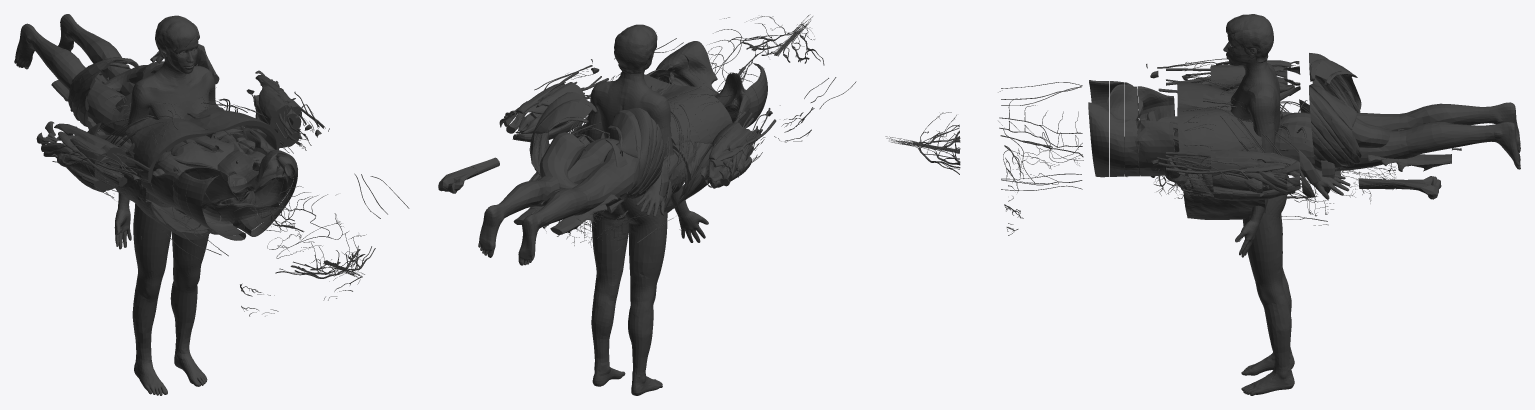
The model's file is sharedassets105.glb.
3 views of the same model, side by side, from view 1: azimuth 30°, elevation 25°; view 2: azimuth 150°, elevation 25°; view 3: azimuth 270°, elevation 25° (orthographic). The views are drawn at different scales.
Visible parts, largest first — view 1: 0007_Skin, female, 0008_Skin, male, 0177_Peritoneum__300016-01, 0258_Peritoneum__300016-02, 0643_Peritoneum__300016-04, 0475_Latissimus dorsi, R__1000235-01, 0266_Peritoneum__300016-03, 0471_Latissimus dorsi, L__1000234-01, 0925_Latissimus dorsi, R__1000235-04, 0523_Triceps _triceps brachii_, long head, L_, 0380_External oblique, R__1000152-01, 0604_Latissimus dorsi, R__1000235-02 (+1 smaller); view 2: 0007_Skin, female, 0008_Skin, male, 0258_Peritoneum__300016-02, 0177_Peritoneum__300016-01, 0475_Latissimus dorsi, R__1000235-01, 0872_External oblique, R__1000152-04, 0266_Peritoneum__300016-03, 0439_External intercostal, R__1000150-01, 0604_Latissimus dorsi, R__1000235-02, 0925_Latissimus dorsi, R__1000235-04, 0404_External intercostal, L__1000149-01, 0552_Latissimus dorsi, R__1000235-03 (+8 smaller); view 3: 0007_Skin, female, 0008_Skin, male, 0643_Peritoneum__300016-04, 0177_Peritoneum__300016-01, 0258_Peritoneum__300016-02, 0266_Peritoneum__300016-03, 0471_Latissimus dorsi, L__1000234-01, 0922_Latissimus dorsi, L__1000234-04, 0600_Latissimus dorsi, L__1000234-02, 0510_External oblique, L__1000151-02, 0858_External oblique, L__1000151-04, 0368_External oblique, L__1000151-01 (+3 smaller).
Boxes of the visible parts, x1,y1,x2,y2 form: 0007_Skin, female: (114,15,215,395); 0008_Skin, male: (14,14,256,208); 0177_Peritoneum__300016-01: (186,150,297,240); 0258_Peritoneum__300016-02: (177,150,294,235); 0643_Peritoneum__300016-04: (151,129,274,223); 0475_Latissimus dorsi, R__1000235-01: (140,126,215,183); 0266_Peritoneum__300016-03: (173,147,282,222); 0471_Latissimus dorsi, L__1000234-01: (204,113,280,149); 0925_Latissimus dorsi, R__1000235-04: (125,117,189,155); 0523_Triceps _triceps brachii_, long head, L_: (262,96,291,128); 0380_External oblique, R__1000152-01: (141,151,208,239); 0604_Latissimus dorsi, R__1000235-02: (135,121,202,174); 0007_Skin, female: (584,24,708,395); 0008_Skin, male: (478,133,679,265); 0258_Peritoneum__300016-02: (656,54,764,122); 0177_Peritoneum__300016-01: (665,41,767,115); 0475_Latissimus dorsi, R__1000235-01: (662,84,732,131); 0872_External oblique, R__1000152-04: (664,141,705,212); 0266_Peritoneum__300016-03: (650,64,758,127); 0439_External intercostal, R__1000150-01: (612,108,663,181); 0604_Latissimus dorsi, R__1000235-02: (664,95,719,143); 0925_Latissimus dorsi, R__1000235-04: (670,108,700,145); 0404_External intercostal, L__1000149-01: (545,92,592,118); 0552_Latissimus dorsi, R__1000235-03: (668,100,711,143); 0007_Skin, female: (1223,14,1294,395); 0008_Skin, male: (1124,102,1520,199); 0643_Peritoneum__300016-04: (1137,86,1174,176); 0177_Peritoneum__300016-01: (1088,80,1109,177); 0258_Peritoneum__300016-02: (1110,81,1124,176); 0266_Peritoneum__300016-03: (1124,82,1139,176); 0471_Latissimus dorsi, L__1000234-01: (1177,102,1200,170); 0922_Latissimus dorsi, L__1000234-04: (1225,110,1261,150); 0600_Latissimus dorsi, L__1000234-02: (1200,107,1214,168); 0510_External oblique, L__1000151-02: (1200,167,1214,219); 0858_External oblique, L__1000151-04: (1229,146,1265,219); 0368_External oblique, L__1000151-01: (1183,178,1200,219).
Size of the model in its own units: 0.2272 by 0.3373 by 0.5299.
1 material, 1 textured.
